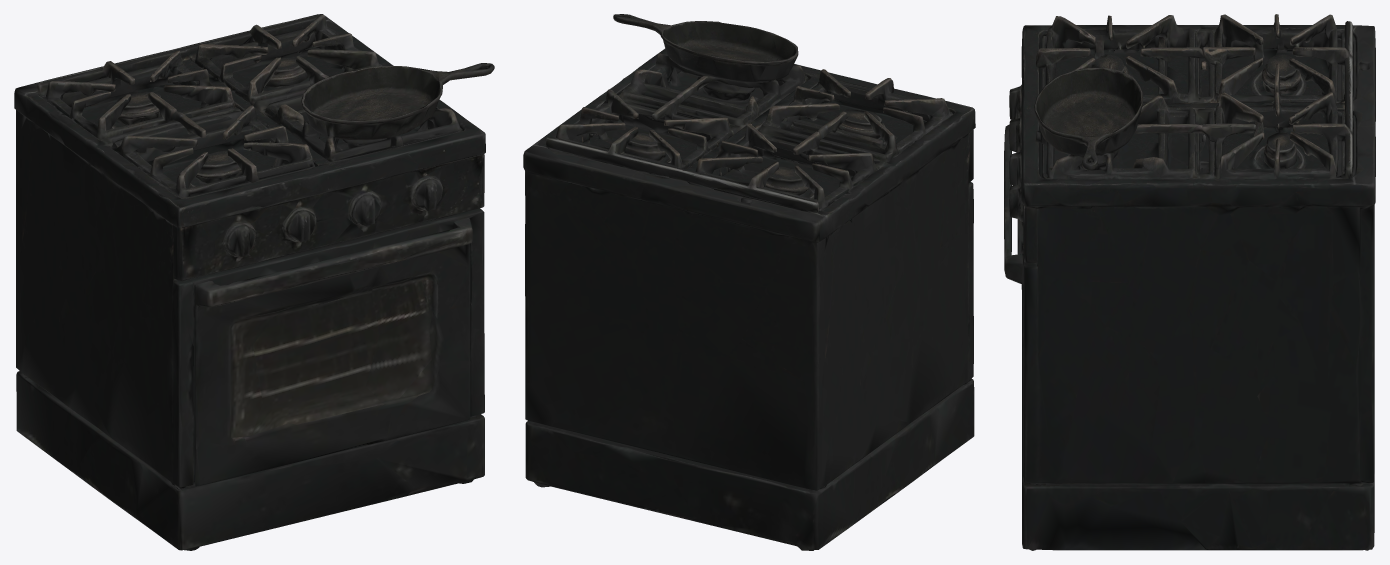
The model's file is desktop.glb.
The picture shows the model from 3 angles, left to right: view 1: azimuth 30°, elevation 25°; view 2: azimuth 150°, elevation 25°; view 3: azimuth 270°, elevation 25°; orthographic projection. The views are drawn at different scales.
Visible parts, largest first — view 1: d-stove; view 2: d-stove; view 3: d-stove.
Part boxes in pixels (bbox=[...]): d-stove: bbox=[14, 14, 494, 550]; d-stove: bbox=[523, 14, 975, 550]; d-stove: bbox=[1004, 14, 1375, 550].
Size of the model in its own units: 0.7497 by 0.8007 by 0.6495.
1 material, 1 textured.
